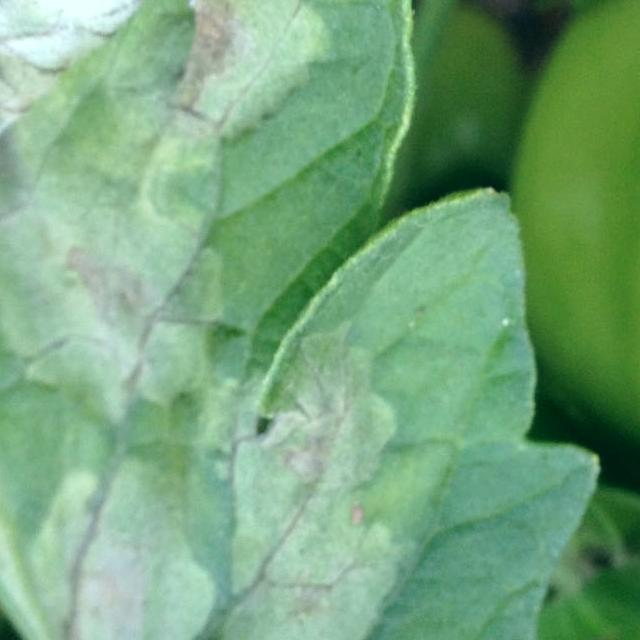Tomato leaf late blight: (0, 0, 440, 640), (129, 147, 588, 640), (574, 0, 640, 7)
